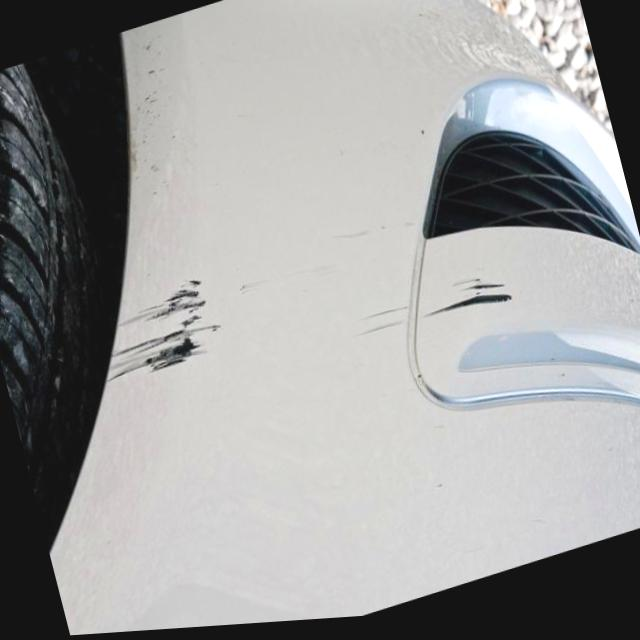Scratch: (108, 277, 208, 385), (424, 289, 518, 317), (358, 317, 409, 337), (361, 304, 407, 323), (454, 281, 506, 293)
